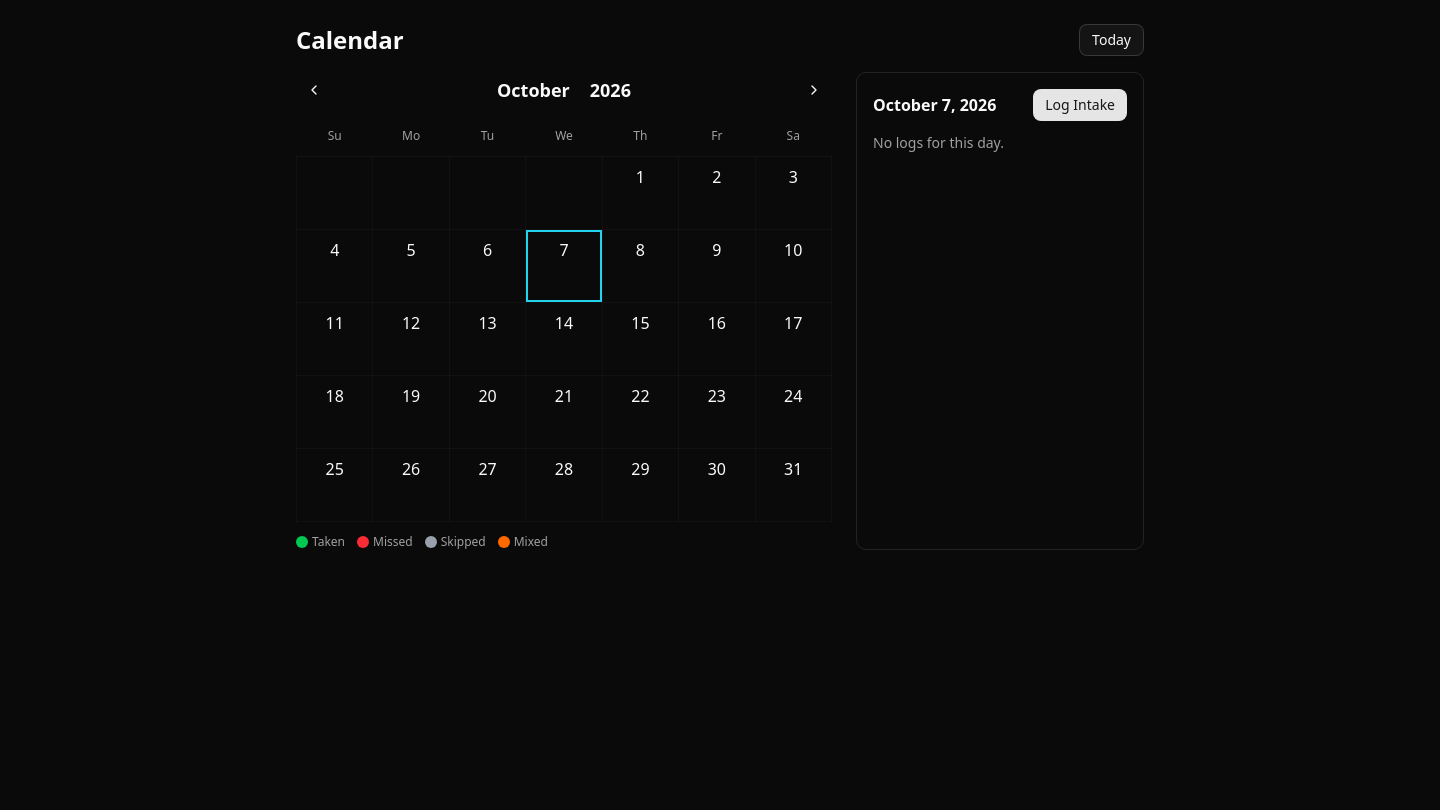
Scenario: CalendarPage › [US2] selecting a month auto-closes the overlay and jumps to that month
This screenshot has width=1440, height=810.
Expected: the table is shown, 296,116 -> 832,522
Click the button with aria-label "change month" at (533, 90), box 489,72 -> 578,108
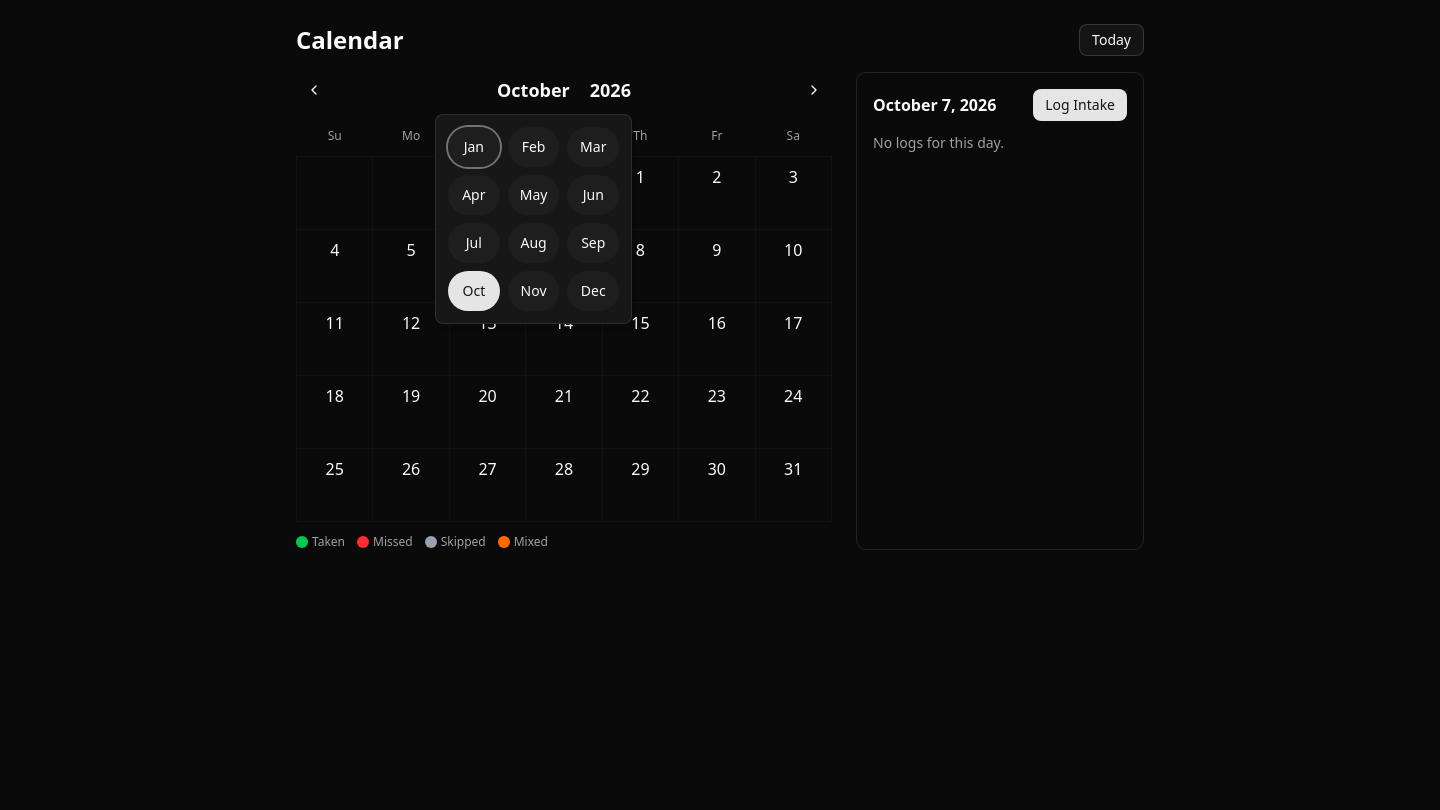
Expected: the element named "month" is shown, 448,127 -> 619,311
Click the button "Jan" at (474, 147), box 448,127 -> 500,167
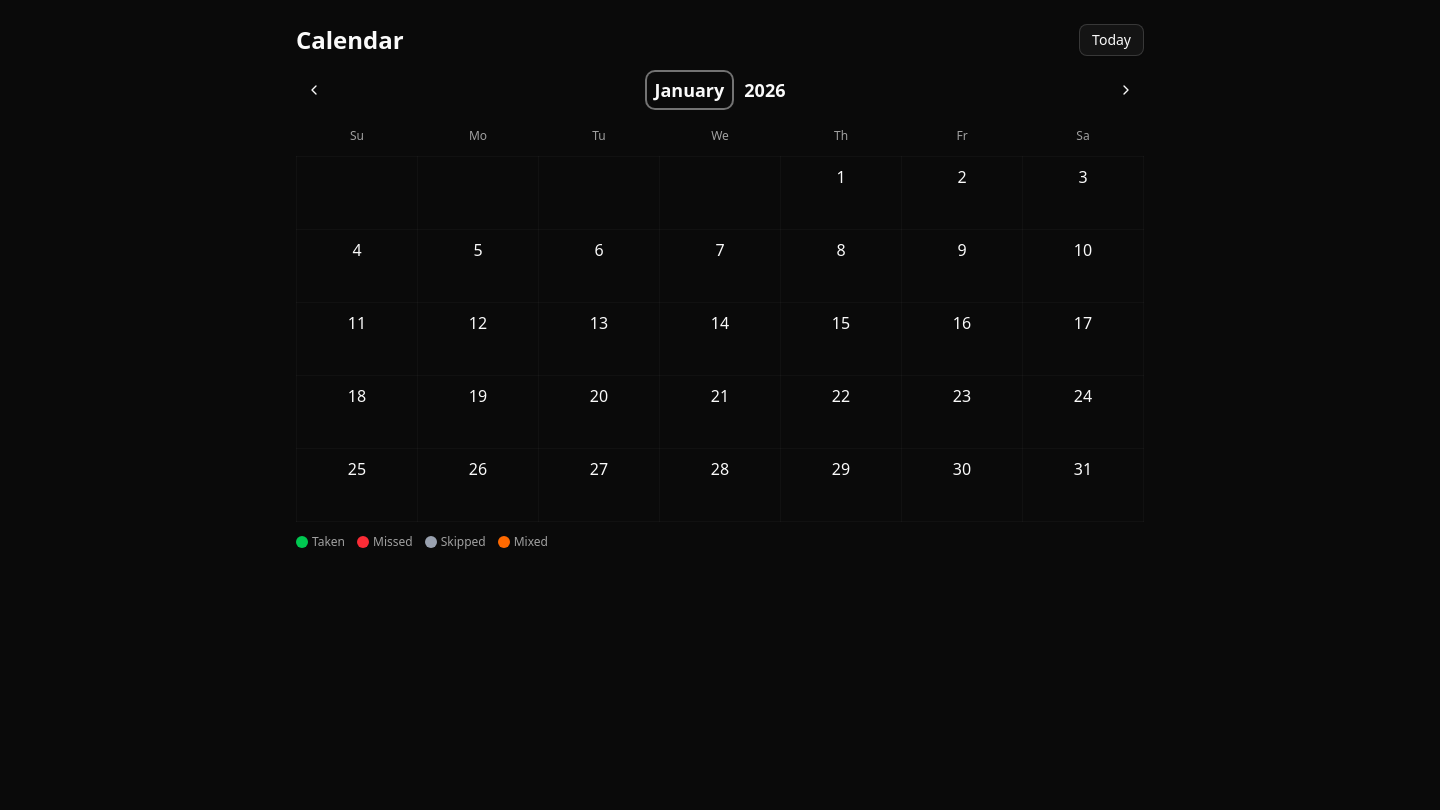
Expected: the element "month" is gone
